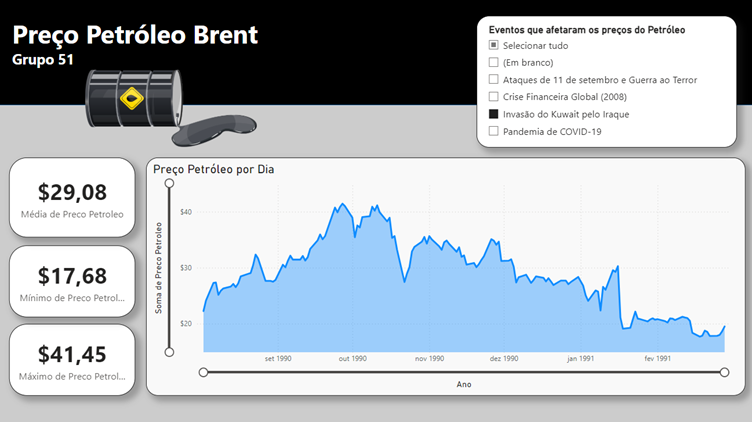

Layout of this report page (visuals, bound fields, positions):
{"tool":"powerbi","page":{"name":"Página 1","canvas":[1280,720],"ordinal":0},"visuals":[{"type":"lineChart","title":"Preço Petróleo por Dia","fields":{"Y":["Sum(PRECO_PETROLEO - Página1.Preco Petroleo)"],"Category":["PRECO_PETROLEO - Página1.Data.Variation.Hierarquia de datas.Ano","PRECO_PETROLEO - Página1.Data.Variation.Hierarquia de datas.Trimestre","PRECO_PETROLEO - Página1.Data.Variation.Hierarquia de datas.Mês","PRECO_PETROLEO - Página1.Data.Variation.Hierarquia de datas.Dia"]},"box":[249.7,269,1011.3,400.7],"z":0},{"type":"card","fields":{"Values":["Max(PRECO_PETROLEO - Página1.Preco Petroleo)"]},"box":[17.8,548.9,212.7,120.8],"z":1000},{"type":"card","fields":{"Values":["Min(PRECO_PETROLEO - Página1.Preco Petroleo)"]},"box":[17.8,417.2,212.7,120.8],"z":2000},{"type":"card","fields":{"Values":["Avg(PRECO_PETROLEO - Página1.Preco Petroleo)"]},"box":[17.8,269,212.7,134.5],"z":3000},{"type":"shape","box":[0,0,1280.3,181.1],"z":4000},{"type":"textbox","title":"Preço Petróleo","box":[18.3,25.7,440.2,116.2],"z":5000},{"type":"slicer","fields":{"Values":["Página1.Eventos"]},"box":[807.1,30.6,439,221.3],"z":6000},{"type":"image","box":[141.8,36.7,299.6,299.6],"z":7000}]}

Visuals, with their boxes in screenshot pixels (x1, y1, x2, y2), scaled from the page's 1280x720 canvas onto the 752x422 screenshot:
"Preço Petróleo por Dia" lineChart: 147, 158, 741, 393
card - Max(PRECO_PETROLEO - Página1.Preco Petroleo): 10, 322, 135, 393
card - Min(PRECO_PETROLEO - Página1.Preco Petroleo): 10, 245, 135, 315
card - Avg(PRECO_PETROLEO - Página1.Preco Petroleo): 10, 158, 135, 236
shape: 0, 0, 751, 106
"Preço Petróleo" textbox: 11, 15, 269, 83
slicer - Página1.Eventos: 474, 18, 732, 148
image: 83, 22, 259, 197
